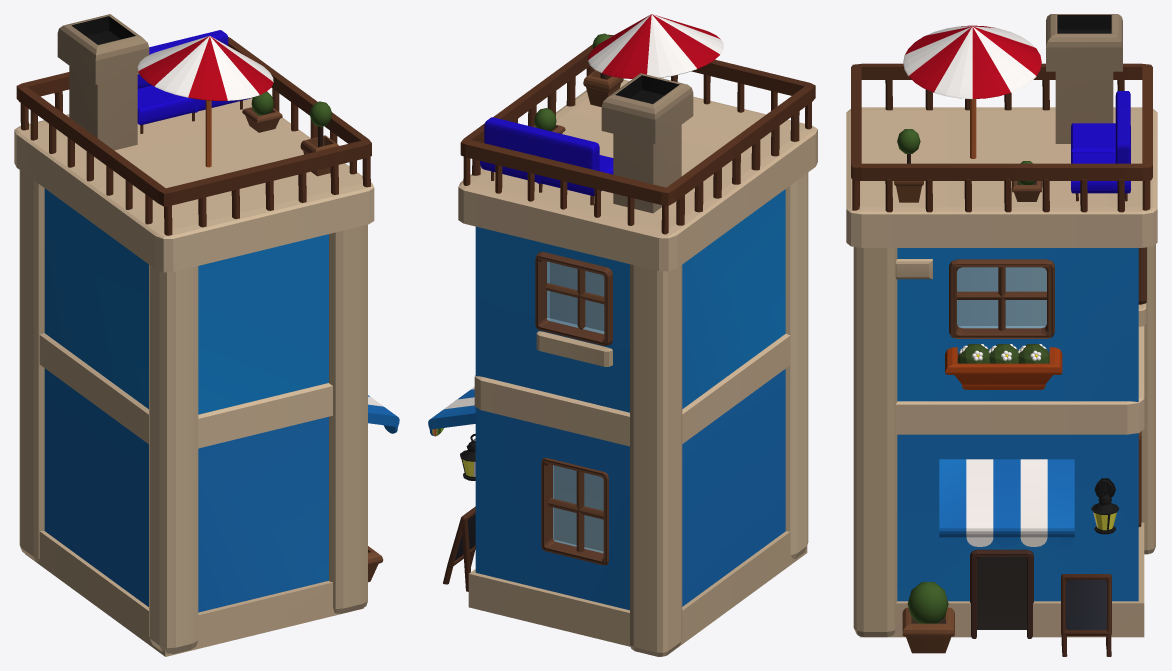
Rendered from tatliş mavi ev.fbx.
3 renders of one model, left to right at view 1: azimuth 30°, elevation 25°; view 2: azimuth 150°, elevation 25°; view 3: azimuth 270°, elevation 25°, orthographic.
Visible parts, largest first — view 1: Cone; view 2: Cone; view 3: Cone.
Part boxes in pixels (box(x1,y1,x2,y2)): Cone: box(14, 14, 399, 656); Cone: box(428, 14, 817, 656); Cone: box(846, 14, 1157, 656).
Size of the model in its own units: 297 by 559 by 280.
1 material, 1 textured.
